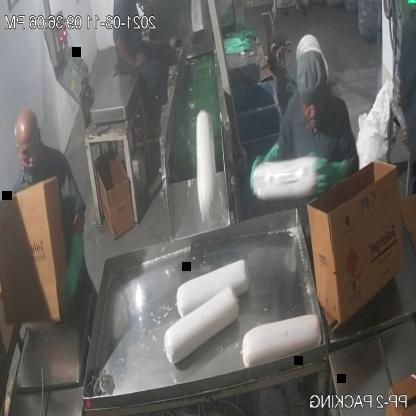glove: (59, 228, 91, 303)
no_glove: (116, 36, 150, 70)
